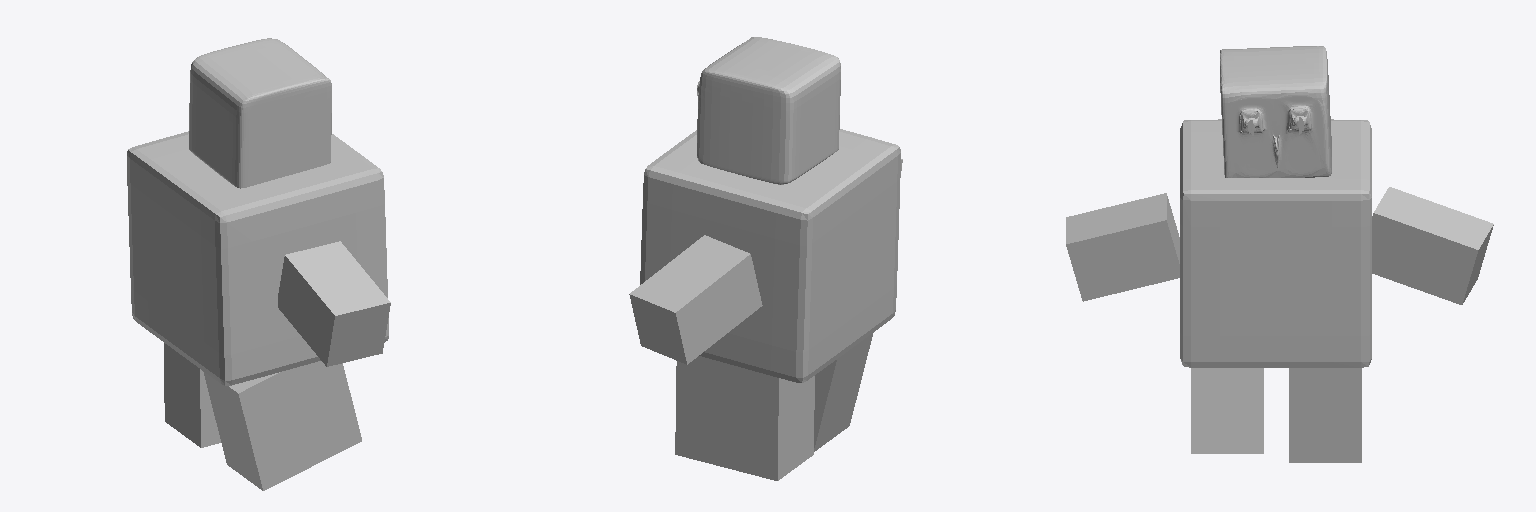
The picture shows the model from 3 angles: view 1: azimuth 30°, elevation 25°; view 2: azimuth 150°, elevation 25°; view 3: azimuth 270°, elevation 25°; orthographic projection.
Parts seen in each view (by area): view 1: Cube_Cube.001, Cube.001_Cube.002, Cube.002_Cube.003, Cube.005_Cube.007, Cube.003_Cube.004; view 2: Cube_Cube.001, Cube.001_Cube.002, Cube.003_Cube.004, Cube.004_Cube.005, Cube.002_Cube.003; view 3: Cube_Cube.001, Cube.001_Cube.002, Cube.004_Cube.005, Cube.005_Cube.007, Cube.003_Cube.004, Cube.002_Cube.003.
Part boxes in pixels (bbox=[...]): Cube_Cube.001: bbox=[127, 131, 388, 385]; Cube.001_Cube.002: bbox=[189, 38, 331, 188]; Cube.002_Cube.003: bbox=[203, 361, 361, 490]; Cube.005_Cube.007: bbox=[278, 241, 390, 366]; Cube.003_Cube.004: bbox=[164, 343, 220, 447]; Cube_Cube.001: bbox=[640, 129, 900, 382]; Cube.001_Cube.002: bbox=[697, 37, 840, 184]; Cube.003_Cube.004: bbox=[675, 356, 814, 480]; Cube.004_Cube.005: bbox=[629, 235, 762, 364]; Cube.002_Cube.003: bbox=[814, 333, 872, 451]; Cube_Cube.001: bbox=[1180, 119, 1371, 367]; Cube.001_Cube.002: bbox=[1220, 46, 1331, 177]; Cube.004_Cube.005: bbox=[1372, 187, 1493, 304]; Cube.005_Cube.007: bbox=[1066, 193, 1179, 301]; Cube.003_Cube.004: bbox=[1289, 368, 1361, 462]; Cube.002_Cube.003: bbox=[1191, 368, 1263, 453].
Size of the model in its own units: 1.5 by 3.23 by 3.24.